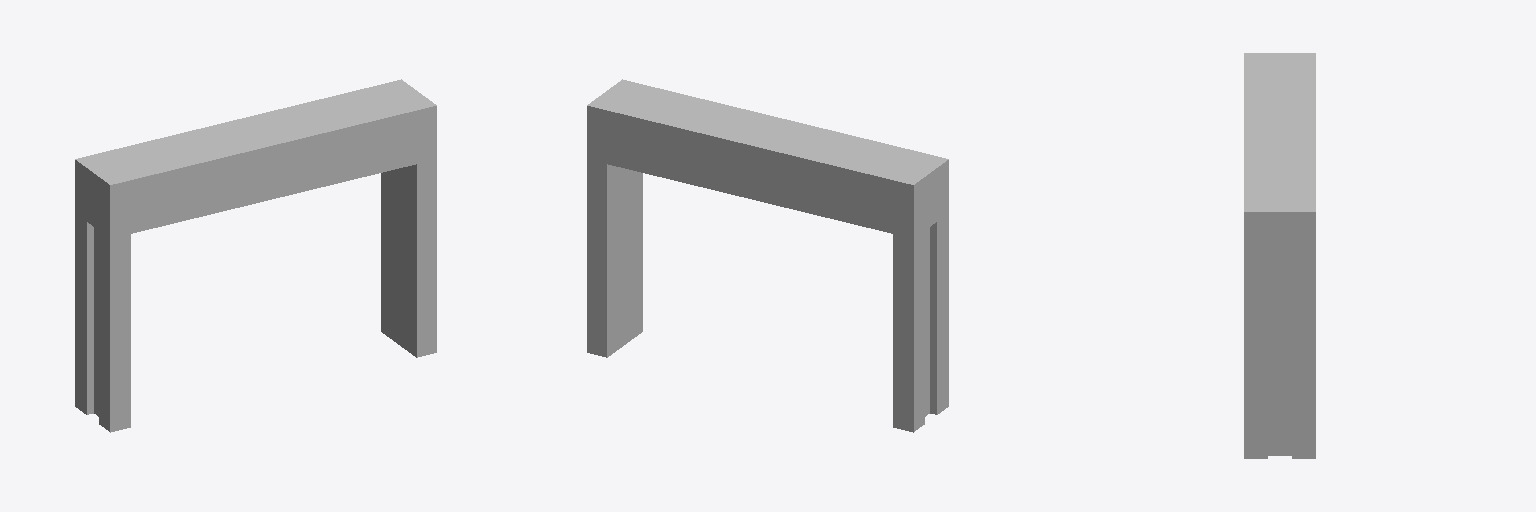
The model's file is checkPoint.obj.
3 renders of one model, left to right at view 1: azimuth 30°, elevation 25°; view 2: azimuth 150°, elevation 25°; view 3: azimuth 270°, elevation 25°, orthographic.
Visible parts, largest first — view 1: Cube.001_Cube.002, Cube.003_Cube.004, Cube.002_Cube.005; view 2: Cube.001_Cube.002, Cube.003_Cube.004, Cube.002_Cube.005; view 3: Cube.001_Cube.002, Cube.003_Cube.004, Cube.002_Cube.005.
Part boxes in pixels (x1,y1,x2,y2): Cube.001_Cube.002: (75, 79, 436, 238); Cube.003_Cube.004: (75, 159, 436, 432); Cube.002_Cube.005: (94, 167, 404, 416); Cube.001_Cube.002: (587, 79, 948, 238); Cube.003_Cube.004: (587, 159, 948, 432); Cube.002_Cube.005: (619, 167, 929, 416); Cube.001_Cube.002: (1244, 53, 1315, 265); Cube.003_Cube.004: (1244, 266, 1315, 458); Cube.002_Cube.005: (1268, 266, 1291, 455).
Size of the model in its own units: 3.18 by 2.3 by 0.6.